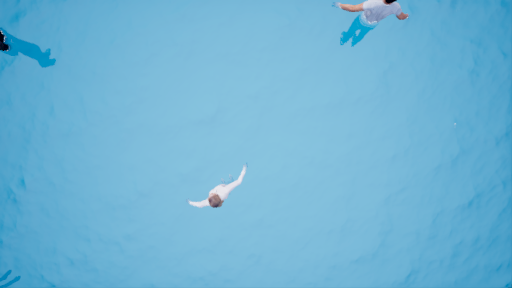person: (177, 159, 255, 212), (330, 2, 415, 48), (1, 21, 64, 73)
